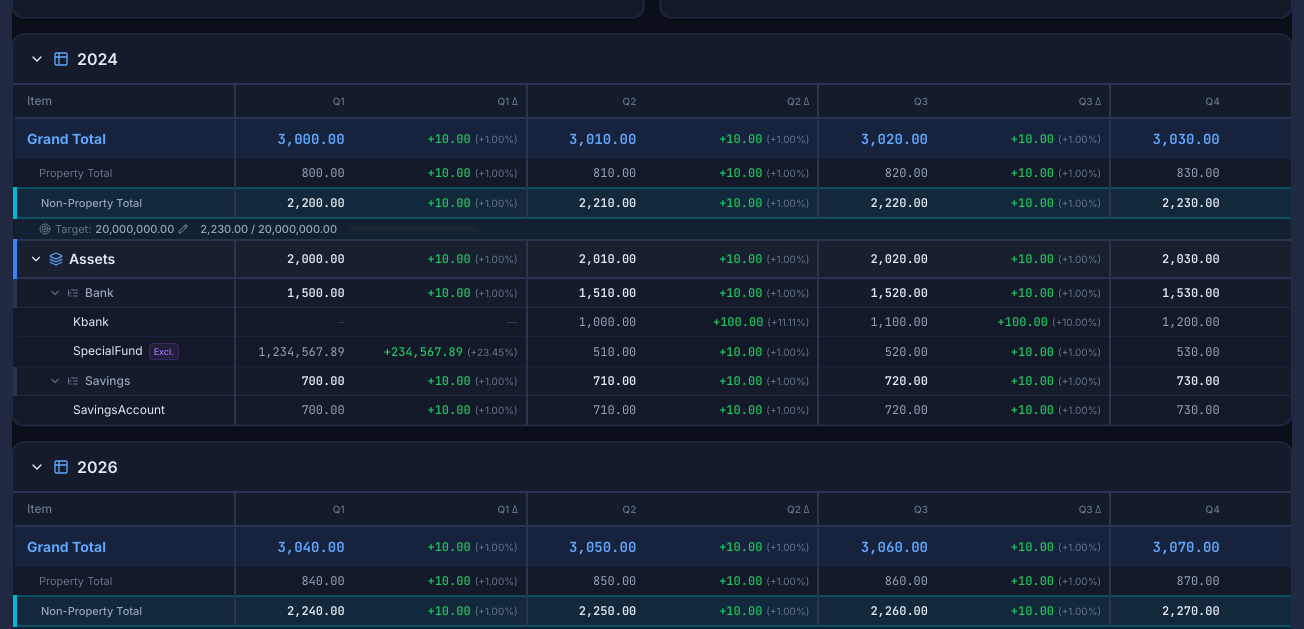
TrackingDashboardPage — Non-Property Total highlight + target progress (Change 2) › lets the user edit the target and persists it to localStorage keyed by tracking set id
(page scrolled)
Click the button "20,000,000.00" at [142, 229], box 95,221 -> 188,237
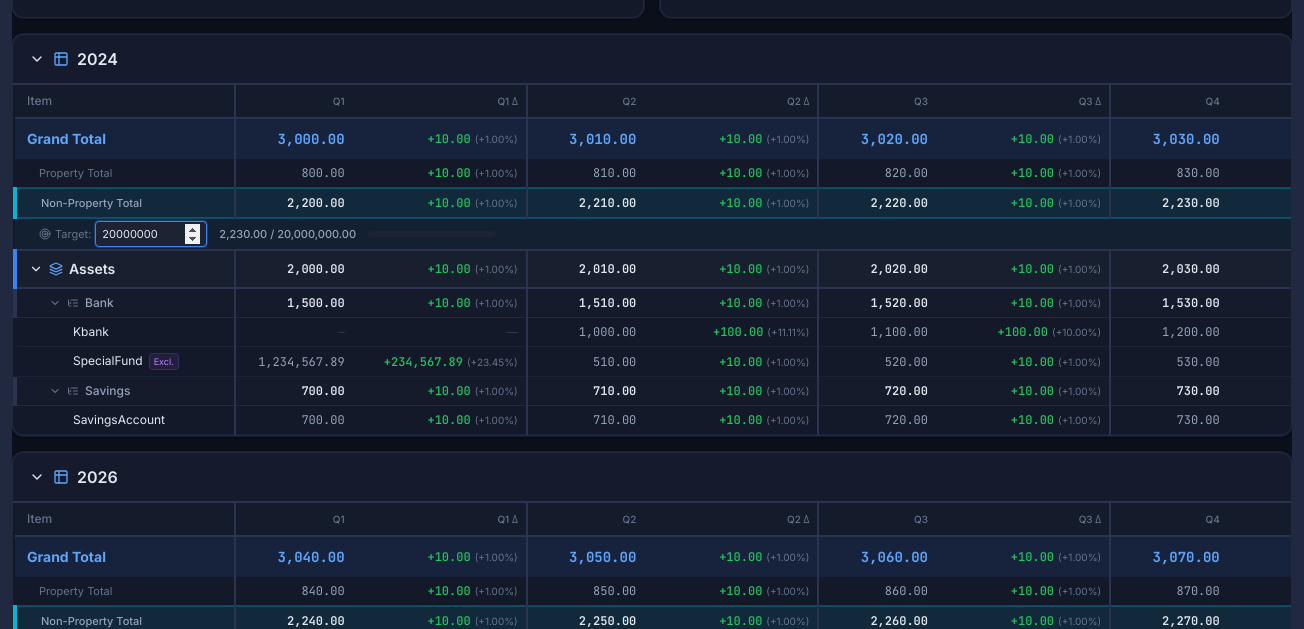
Replace the text in the number field named "Non-Property Total target amount" with "5000000" at [151, 234], box 95,221 -> 207,247
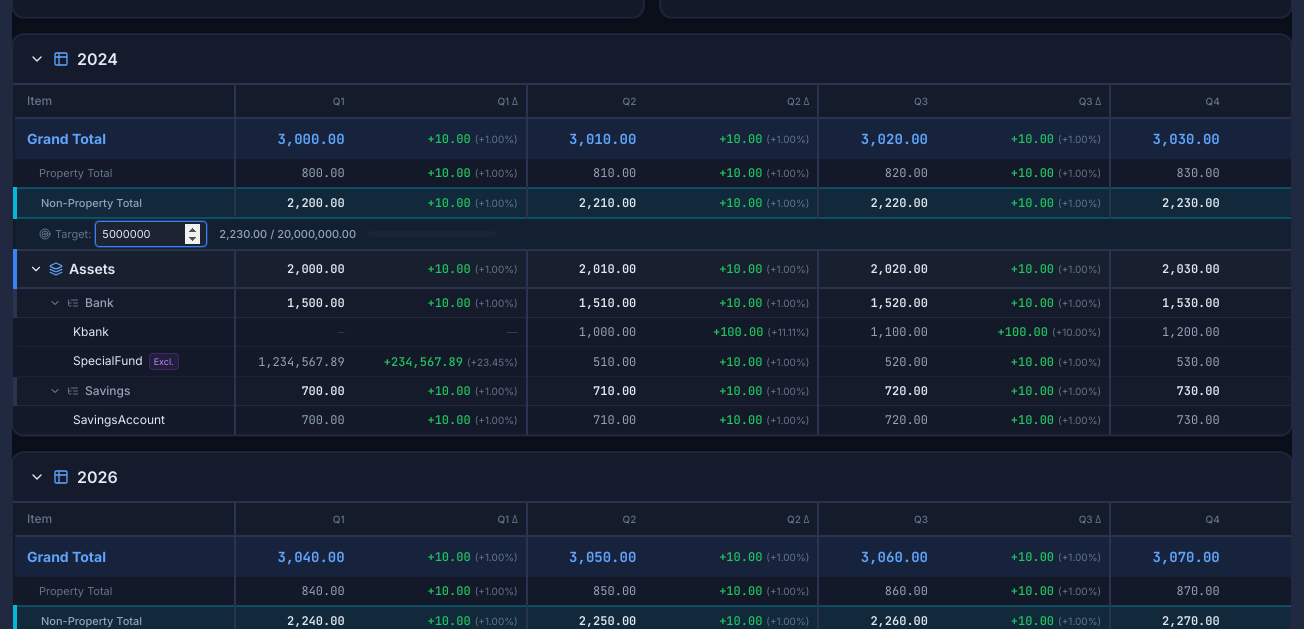
Press Tab
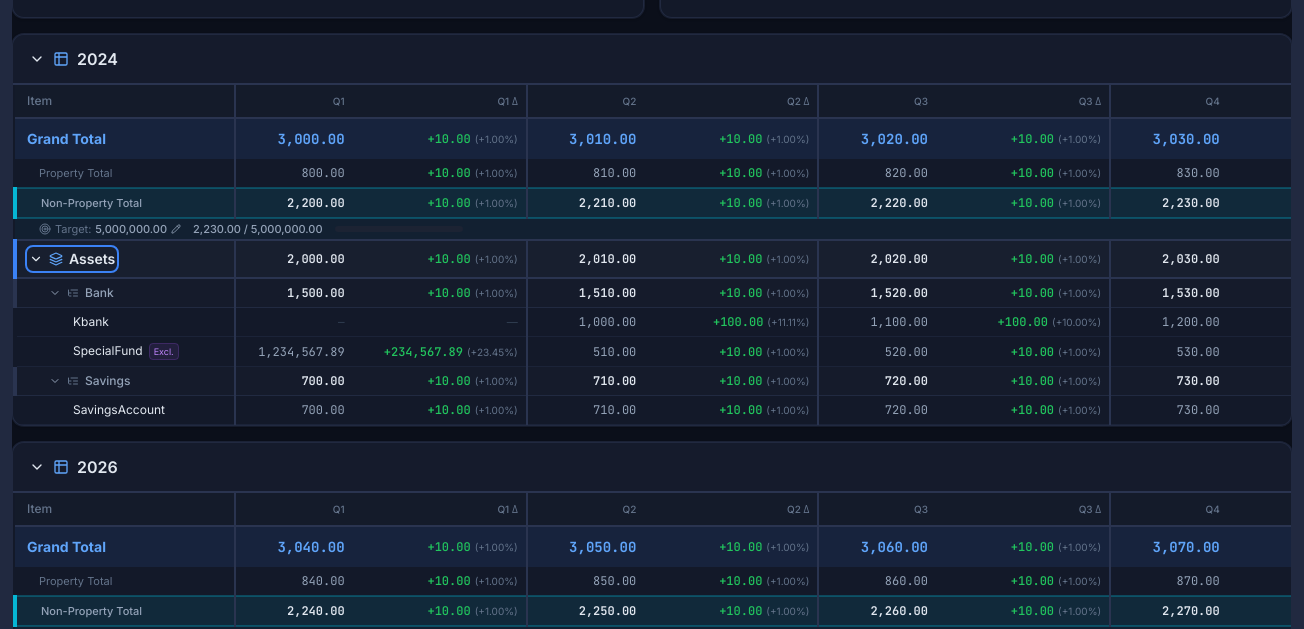
Now the number of buttons named "Edit Non-Property Total target, currently 5,000,000.00" is 2
